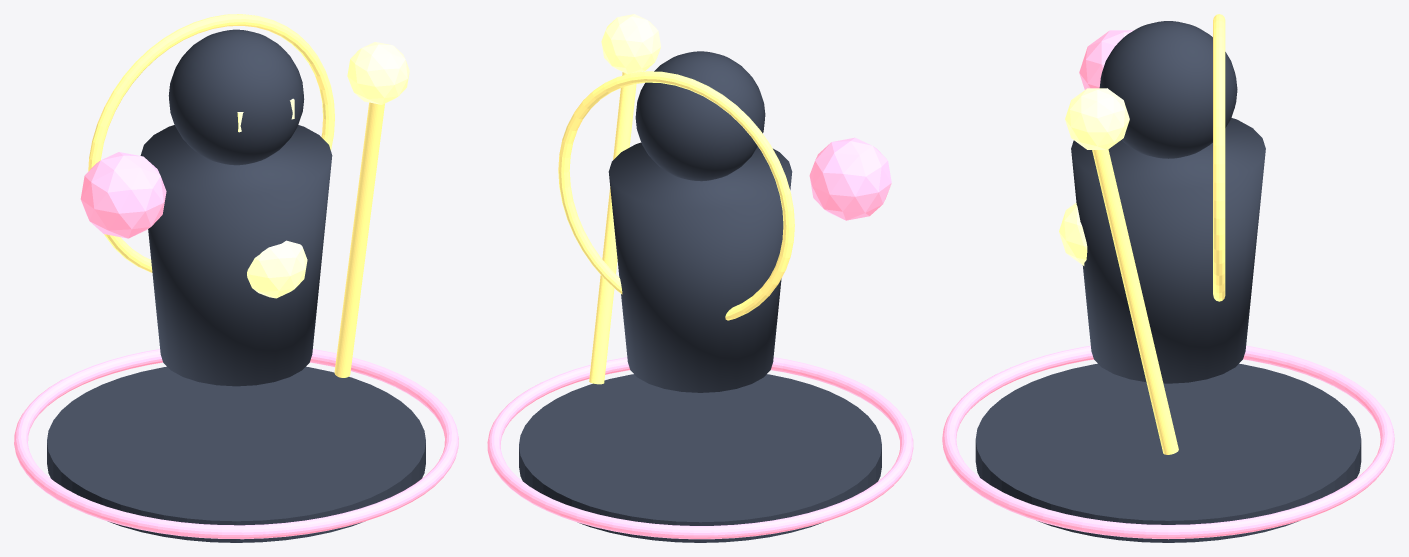
File: radical-minion.glb
The picture shows the model from 3 angles, left to right: view 1: azimuth 30°, elevation 25°; view 2: azimuth 150°, elevation 25°; view 3: azimuth 270°, elevation 25°; orthographic projection. The views are drawn at different scales.
Visible parts, largest first — view 1: AbilityPedestal, AgentTorso, AgentHead, AbilityAuraRing, Pet_RADICAL-MINION, SovereignHalo, SignatureWeapon, WeaponApex, AgentCore; view 2: AbilityPedestal, AgentTorso, AgentHead, AbilityAuraRing, SovereignHalo, Pet_RADICAL-MINION, SignatureWeapon, WeaponApex; view 3: AbilityPedestal, AgentTorso, AgentHead, AbilityAuraRing, SignatureWeapon, SovereignHalo, WeaponApex, Pet_RADICAL-MINION, AgentCore.
Part boxes in pixels (x1,y1,x2,y2): AbilityPedestal: [47, 366, 425, 542]; AgentTorso: [140, 125, 332, 386]; AgentHead: [168, 29, 304, 165]; AbilityAuraRing: [14, 349, 458, 539]; Pet_RADICAL-MINION: [80, 152, 166, 238]; SovereignHalo: [88, 14, 334, 272]; SignatureWeapon: [334, 102, 384, 377]; WeaponApex: [347, 42, 409, 104]; AgentCore: [247, 240, 307, 298]; AbilityPedestal: [519, 374, 881, 542]; AgentTorso: [608, 142, 792, 392]; AgentHead: [635, 51, 765, 181]; AbilityAuraRing: [487, 357, 913, 539]; SovereignHalo: [558, 71, 794, 320]; Pet_RADICAL-MINION: [809, 137, 891, 220]; SignatureWeapon: [589, 72, 636, 384]; WeaponApex: [601, 14, 660, 74]; AbilityPedestal: [975, 363, 1361, 542]; AgentTorso: [1071, 118, 1265, 383]; AgentHead: [1099, 21, 1237, 158]; AbilityAuraRing: [942, 345, 1394, 539]; SignatureWeapon: [1092, 149, 1178, 454]; SovereignHalo: [1213, 14, 1225, 301]; WeaponApex: [1065, 88, 1129, 149]; Pet_RADICAL-MINION: [1079, 30, 1133, 89]; AgentCore: [1059, 203, 1087, 265].
Bounding box in the file's own units: 2.23 × 2.36 × 2.23.
